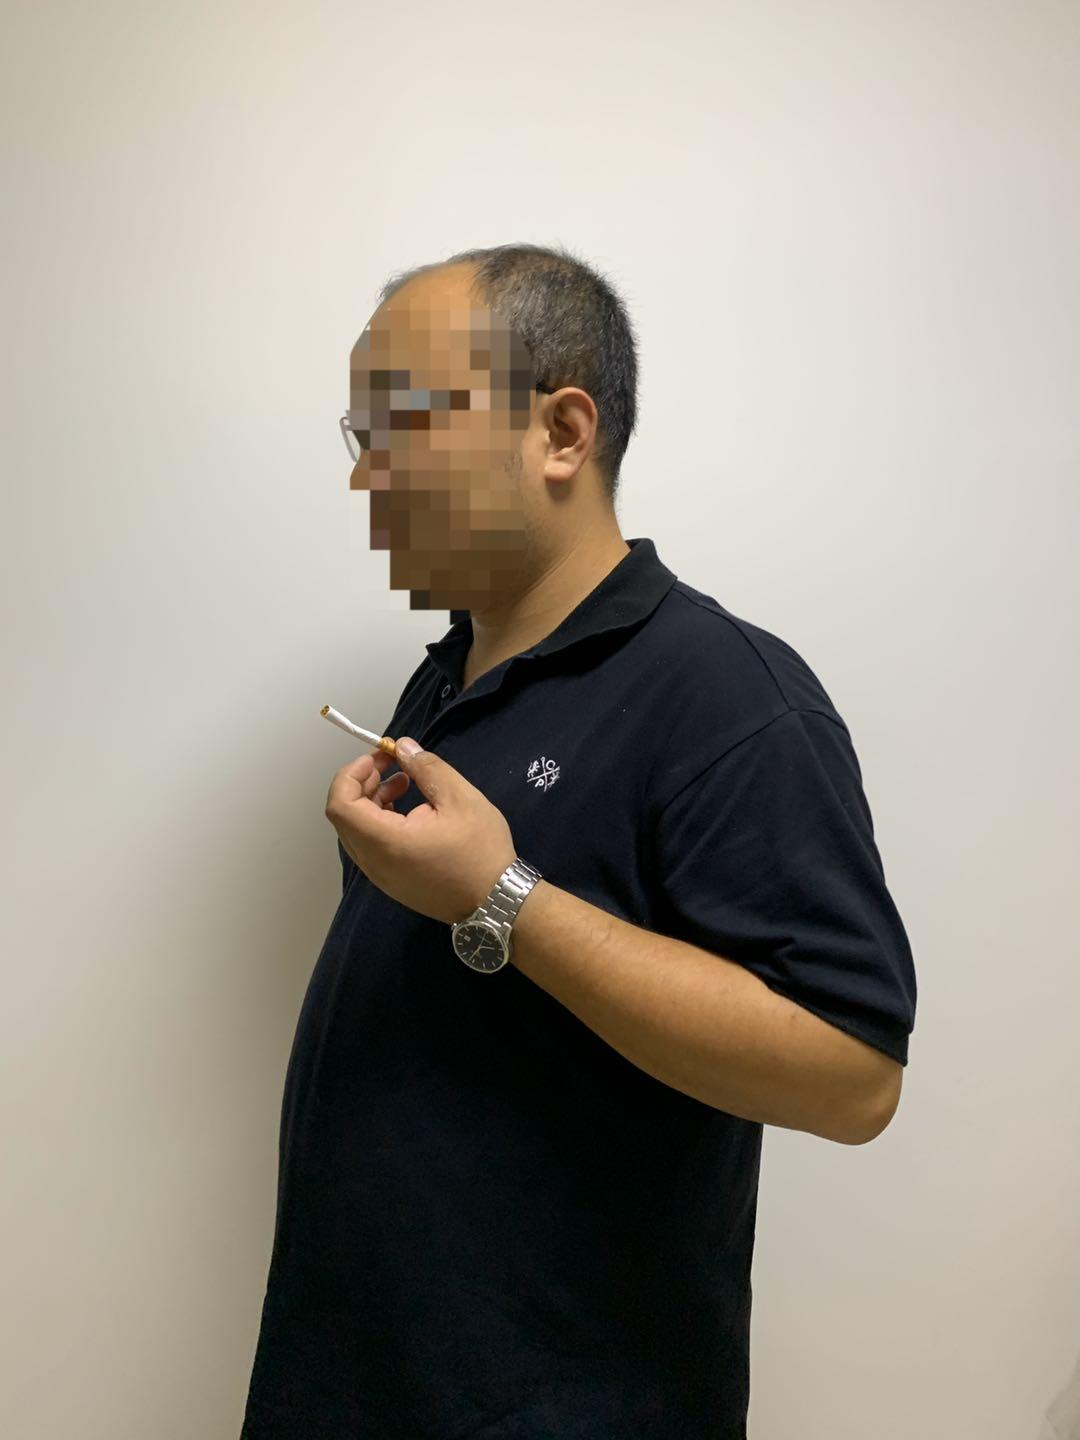smoke: (317, 701, 395, 757)
